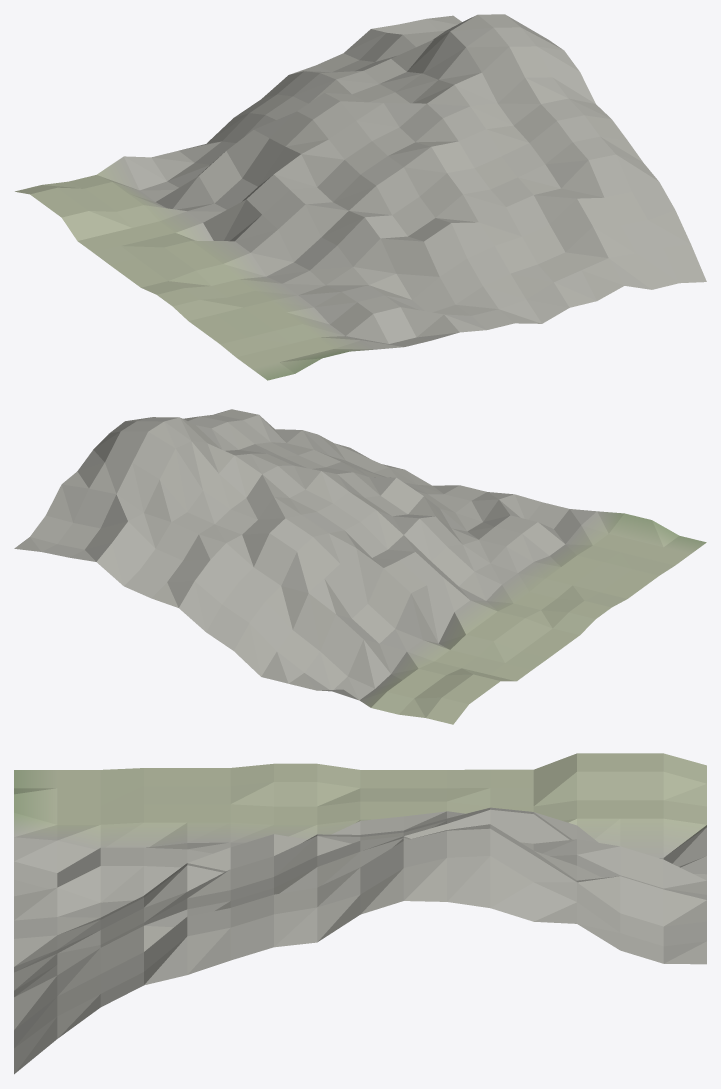
The picture shows the model from 3 angles, top to bottom: view 1: azimuth 30°, elevation 25°; view 2: azimuth 150°, elevation 25°; view 3: azimuth 270°, elevation 25°; orthographic projection. The views are drawn at different scales.
Bounding box in the file's own units: 32 × 10.89 × 32.
